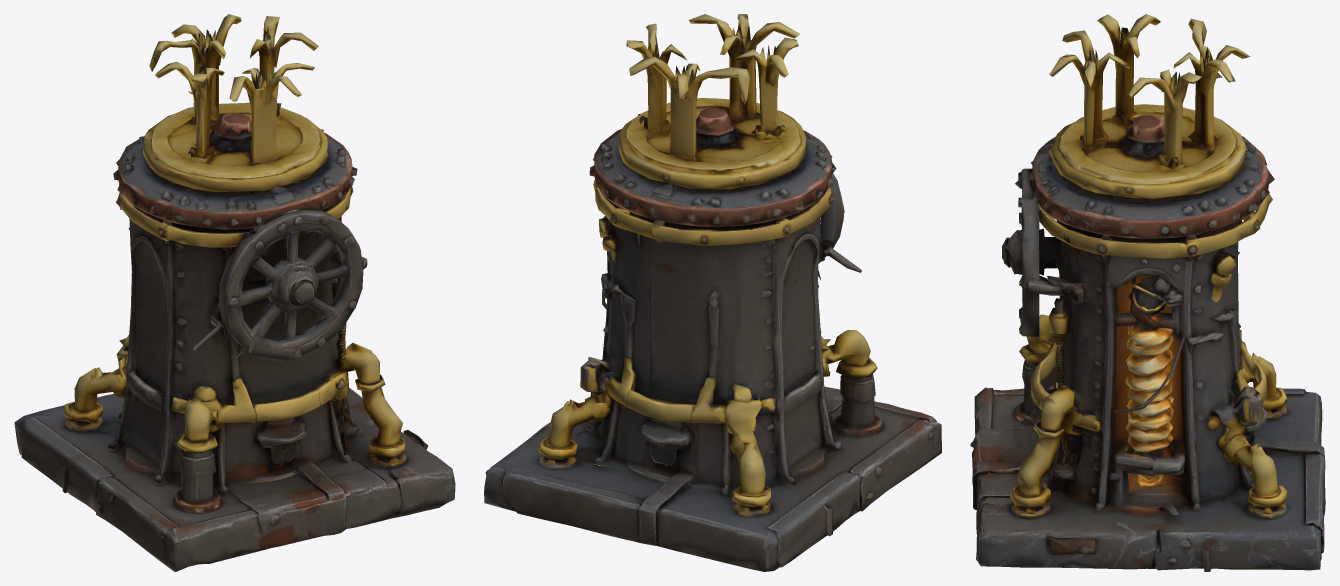
File: prison_generator.glb
3 renders of one model, left to right at view 1: azimuth 30°, elevation 25°; view 2: azimuth 150°, elevation 25°; view 3: azimuth 270°, elevation 25°, orthographic. The views are drawn at different scales.
Parts seen in each view (by area): view 1: tripo_node_0eab5b58-072e-4ebe-b232-3f4e6affc786; view 2: tripo_node_0eab5b58-072e-4ebe-b232-3f4e6affc786; view 3: tripo_node_0eab5b58-072e-4ebe-b232-3f4e6affc786.
Boxes of the visible parts, x1,y1,x2,y2 form: tripo_node_0eab5b58-072e-4ebe-b232-3f4e6affc786: (14, 14, 455, 571); tripo_node_0eab5b58-072e-4ebe-b232-3f4e6affc786: (484, 14, 941, 571); tripo_node_0eab5b58-072e-4ebe-b232-3f4e6affc786: (970, 14, 1325, 571).
Bounding box in the file's own units: 0.7164 × 1 × 0.7107.
Materials: 1 (1 with a texture image).
